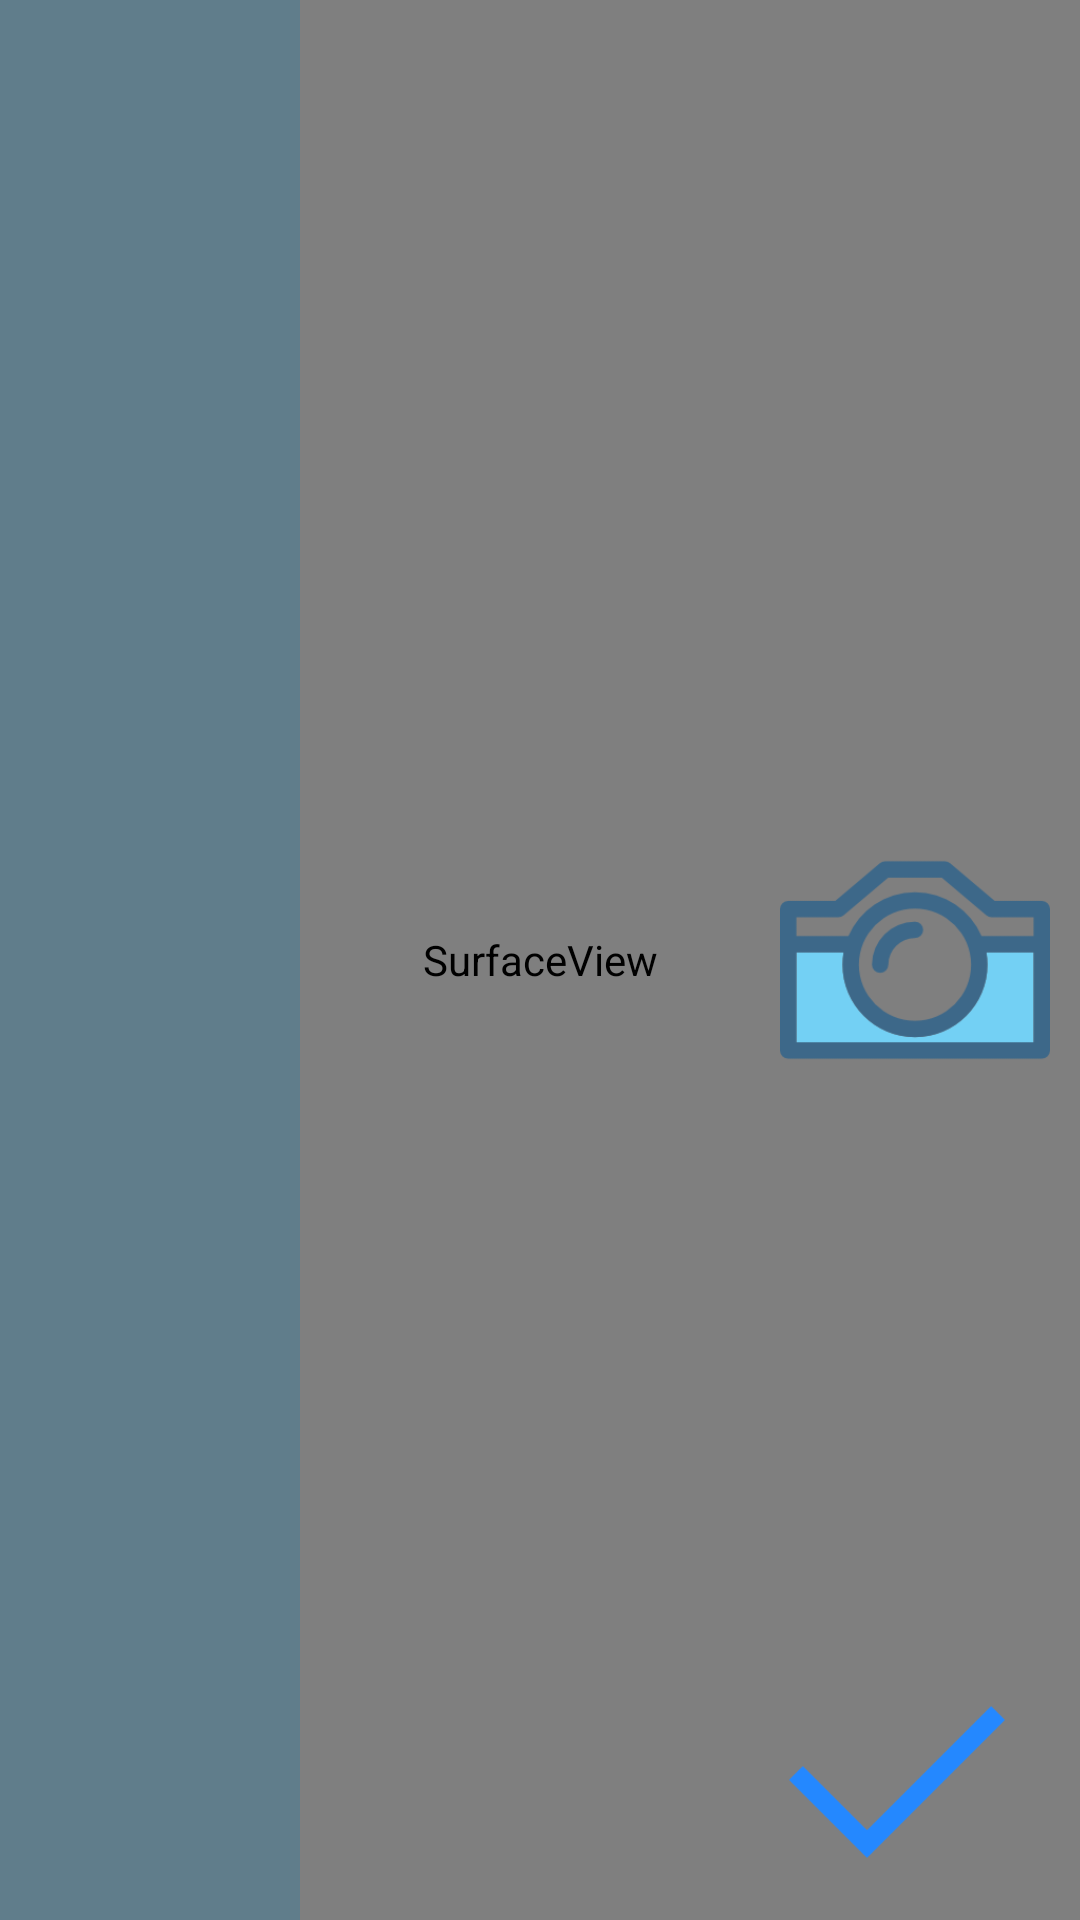

Icon bounding boxes for this 1080x1920 phone screenshot, format (x1, y1, x2, y2):
capture: (780, 861, 1050, 1059)
checked: (789, 1706, 1005, 1858)
